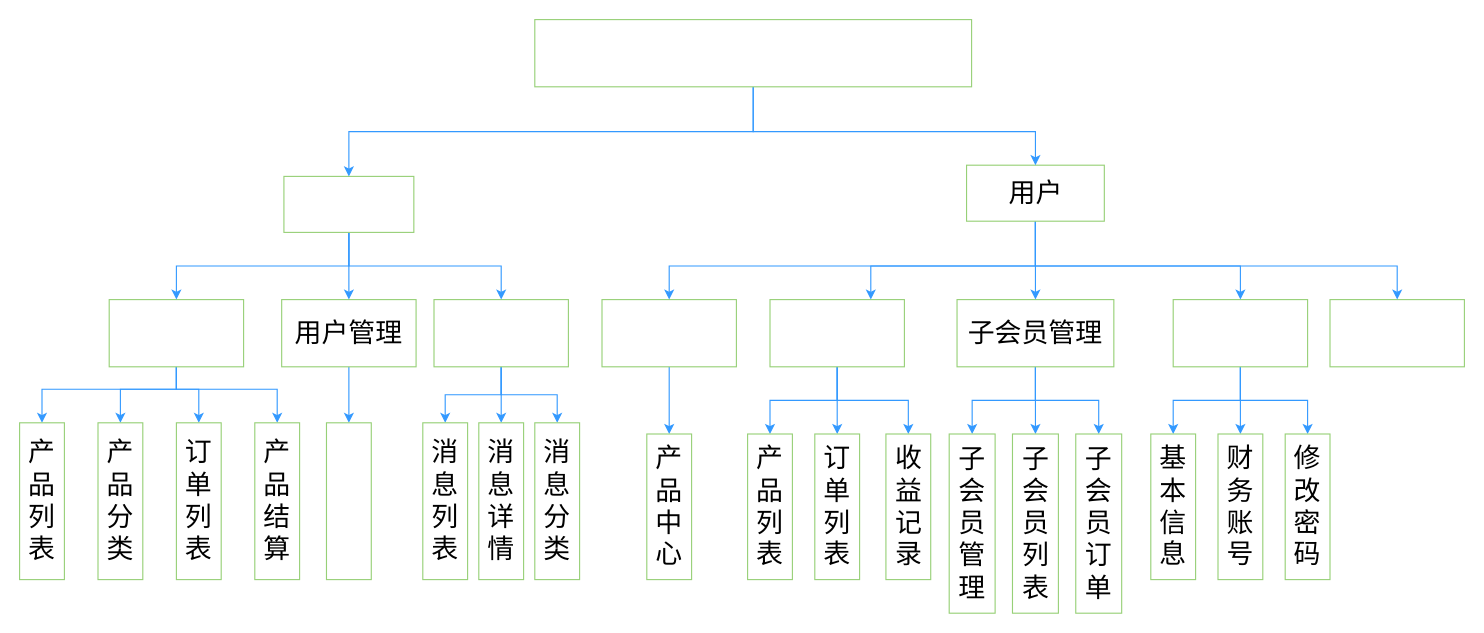
Some shapes in this 1484 by 633 pixel diagram are drawn without their labels. Each missing label, with the centre of its shape:
产品介绍: point 668,332
产品管理: point 176,332
信息通知: point 1396,332
发薪联盟广告推广平台: point 753,52
我的产品: point 836,332
我的信息: point 1240,332
消息管理: point 500,332
用户列表: point 348,501
管理员: point 348,203
